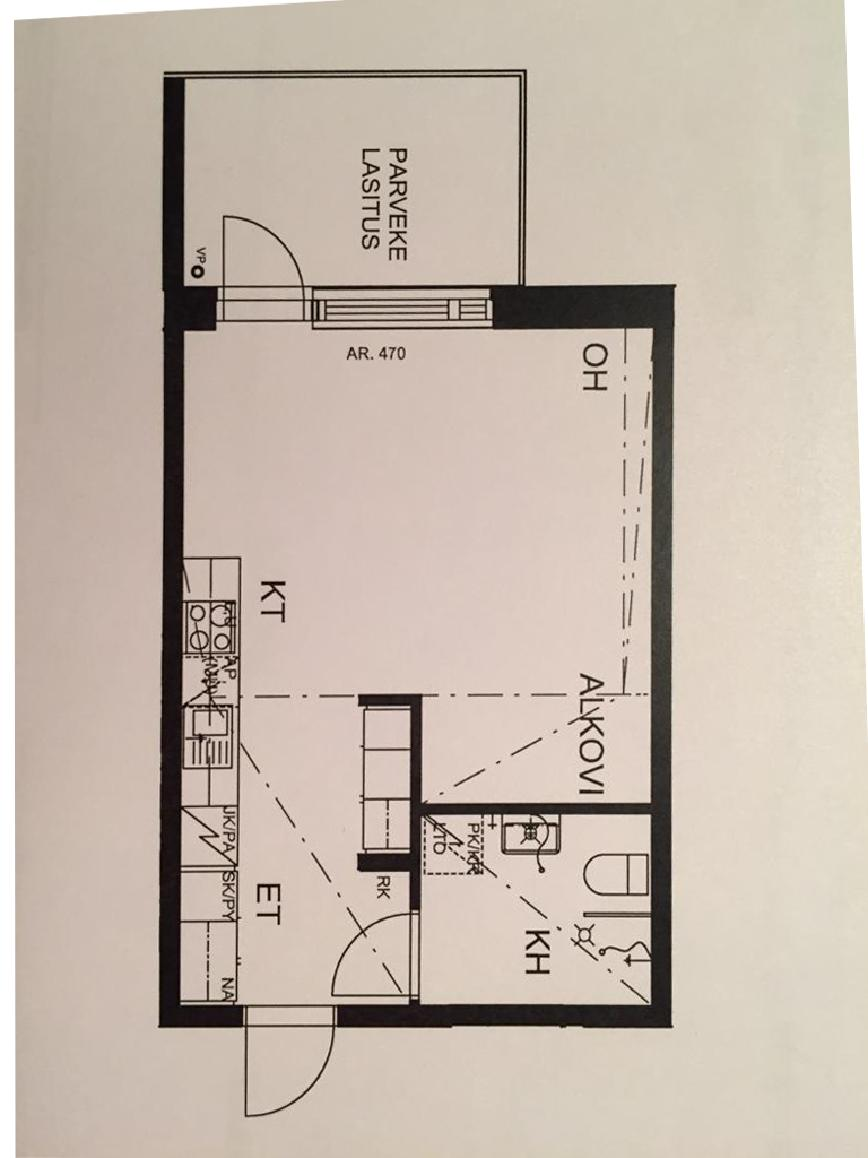door: (244, 1003, 336, 1119), (219, 216, 314, 321), (329, 910, 420, 998)
window: (314, 286, 494, 329)
zone: (185, 328, 646, 1003), (183, 77, 518, 287), (428, 816, 648, 1002)
